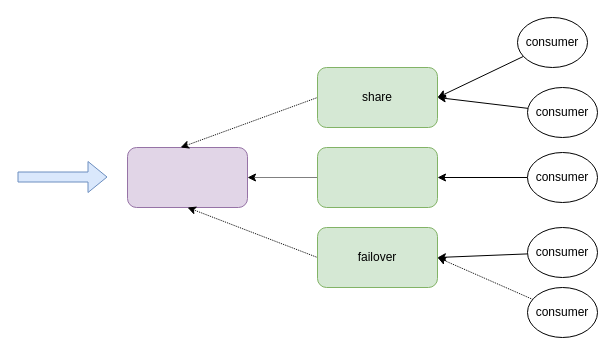
Some shapes in this 615 by 355 pixel diagram are drawn without their labels. Each missing label, with the centre of its shape:
exclusive: point 377,177
topic: point 187,177
